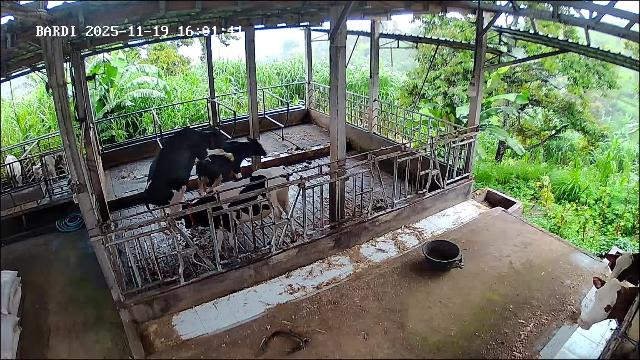mounting: (142, 126, 234, 254)
